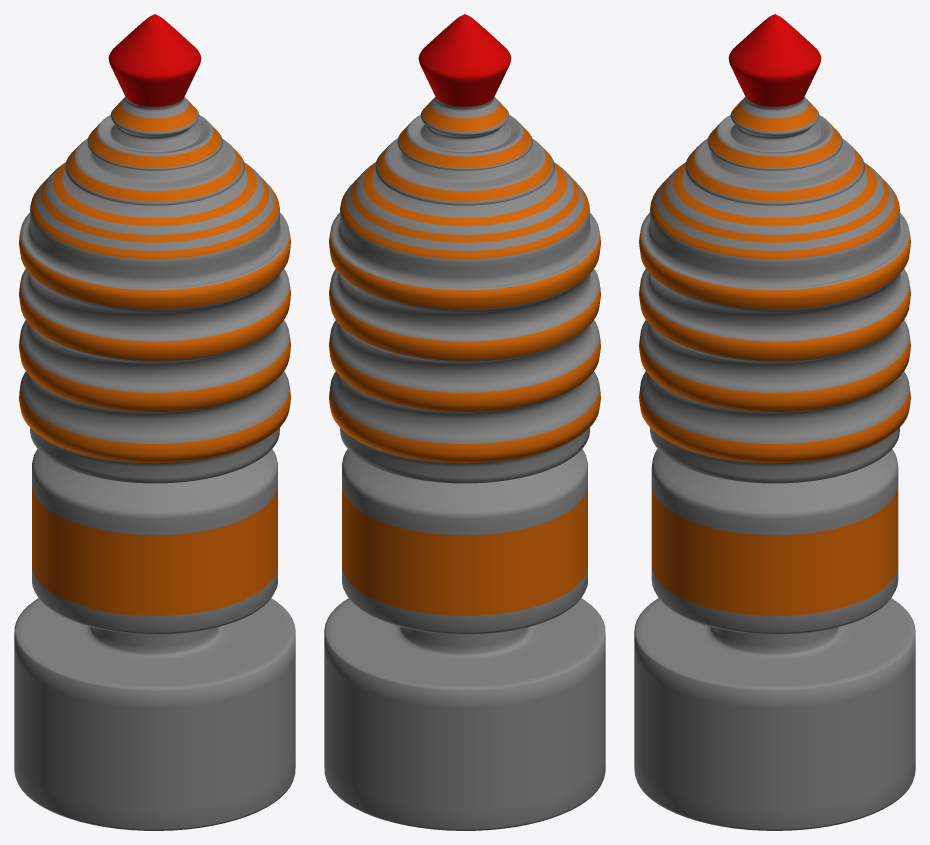
The model's file is EmagRocket.fbx.
The picture shows the model from 3 angles, left to right: view 1: azimuth 30°, elevation 25°; view 2: azimuth 150°, elevation 25°; view 3: azimuth 270°, elevation 25°; orthographic projection.
Parts seen in each view (by area): view 1: Cylinder; view 2: Cylinder; view 3: Cylinder.
Part boxes in pixels (x1,y1,x2,y2): Cylinder: (14,14,295,830); Cylinder: (324,14,605,830); Cylinder: (634,14,915,830).
Size of the model in its own units: 169 by 504 by 169.
